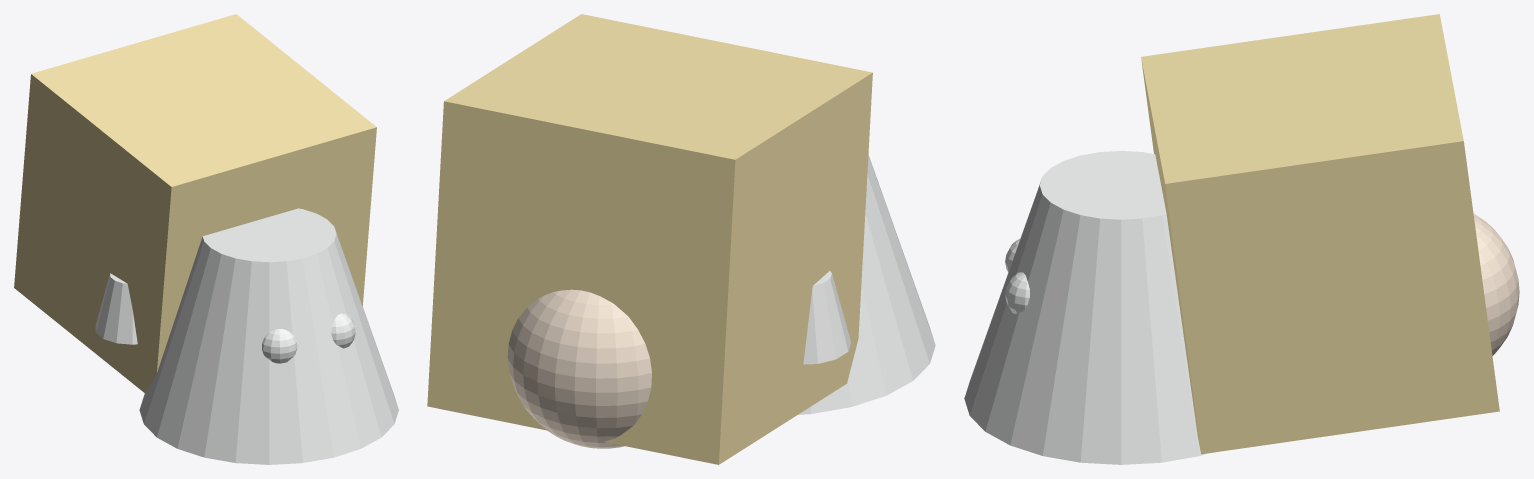
File: monk.glb
3 renders of one model, left to right at view 1: azimuth 30°, elevation 25°; view 2: azimuth 150°, elevation 25°; view 3: azimuth 270°, elevation 25°, orthographic. The views are drawn at different scales.
Visible parts, largest first — view 1: Sash, Robe, SleeveLeft, ShoeLeft, ShoeRight; view 2: Sash, HeadMesh, Robe, SleeveLeft; view 3: Sash, Robe, HeadMesh, ShoeRight.
Boxes of the visible parts, x1,y1,x2,y2 form: Sash: (14, 14, 376, 393); Robe: (139, 208, 398, 464); SleeveLeft: (95, 273, 137, 344); ShoeLeft: (262, 329, 297, 363); ShoeRight: (331, 313, 355, 348); Sash: (427, 14, 872, 464); HeadMesh: (507, 289, 651, 448); Robe: (798, 155, 935, 414); SleeveLeft: (803, 271, 851, 364); Sash: (1141, 14, 1499, 454); Robe: (964, 151, 1206, 464); HeadMesh: (1473, 214, 1519, 355); ShoeRight: (1005, 272, 1029, 313).
Bounding box in the file's own units: 1.11 × 1.18 × 1.84.
